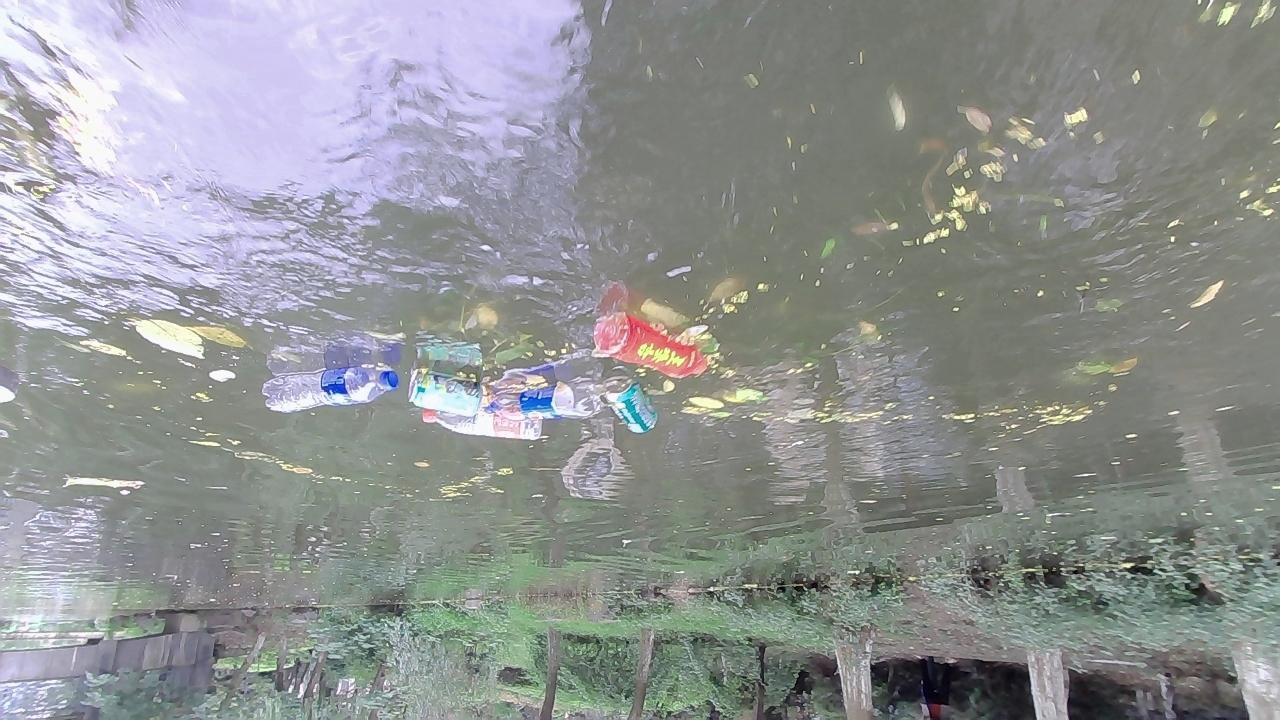Metal: (406, 368, 484, 418), (600, 376, 660, 435)
Plastic: (591, 309, 711, 380), (260, 364, 399, 416), (485, 380, 603, 421), (419, 408, 544, 443)
